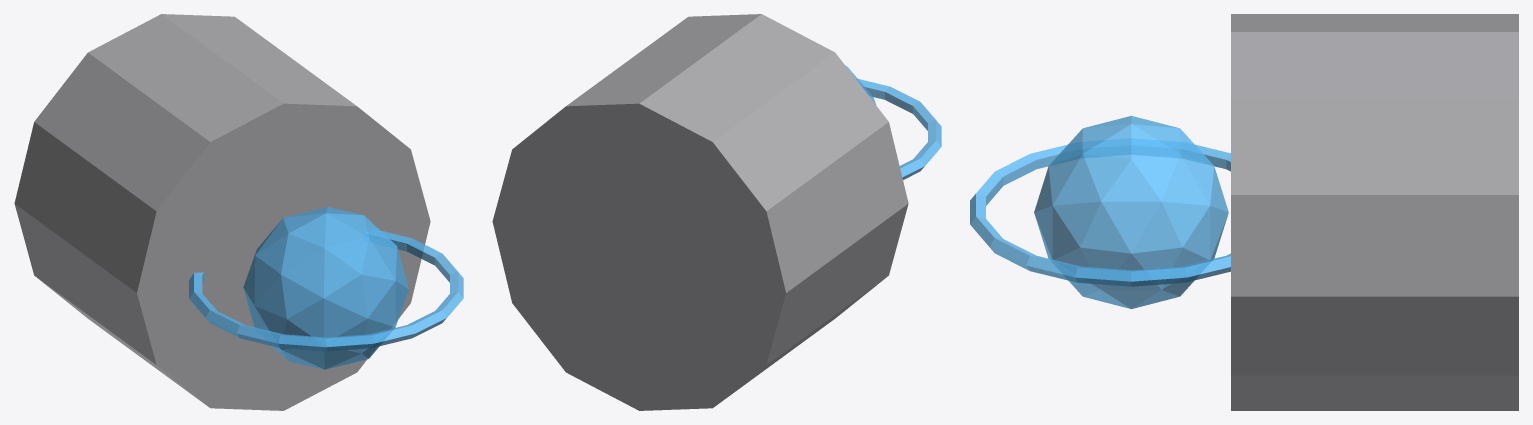
File: sealed_prophecy_scroll.glb
3 renders of one model, left to right at view 1: azimuth 30°, elevation 25°; view 2: azimuth 150°, elevation 25°; view 3: azimuth 270°, elevation 25°, orthographic. The views are drawn at different scales.
Visible parts, largest first — view 1: pedestal, story_relic, relic_halo; view 2: pedestal, relic_halo; view 3: pedestal, story_relic, relic_halo.
Boxes of the visible parts, left/top/right/bottom form: pedestal: left=14, top=14, right=430, bottom=410; story_relic: left=243, top=207, right=408, bottom=369; relic_halo: left=189, top=231, right=463, bottom=351; pedestal: left=492, top=14, right=908, bottom=410; relic_halo: left=858, top=79, right=941, bottom=179; pedestal: left=1231, top=14, right=1518, bottom=410; story_relic: left=1034, top=115, right=1228, bottom=309; relic_halo: left=970, top=144, right=1230, bottom=286.
Size of the model in its own units: 0.9 by 0.9 by 1.24.
